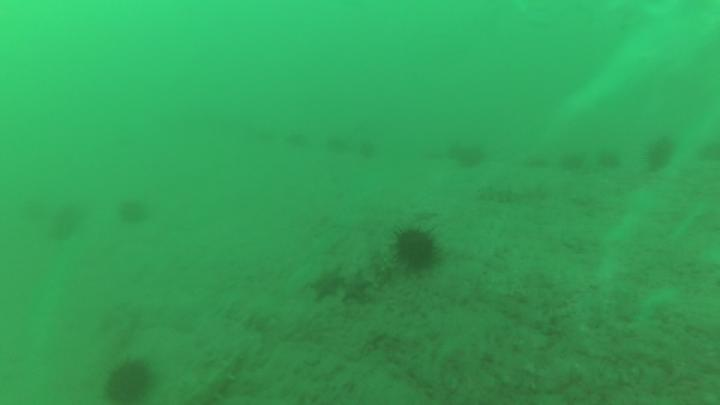echinus: (395, 229, 437, 272), (106, 365, 150, 405)
starfish: (342, 273, 373, 303), (312, 269, 340, 301)
